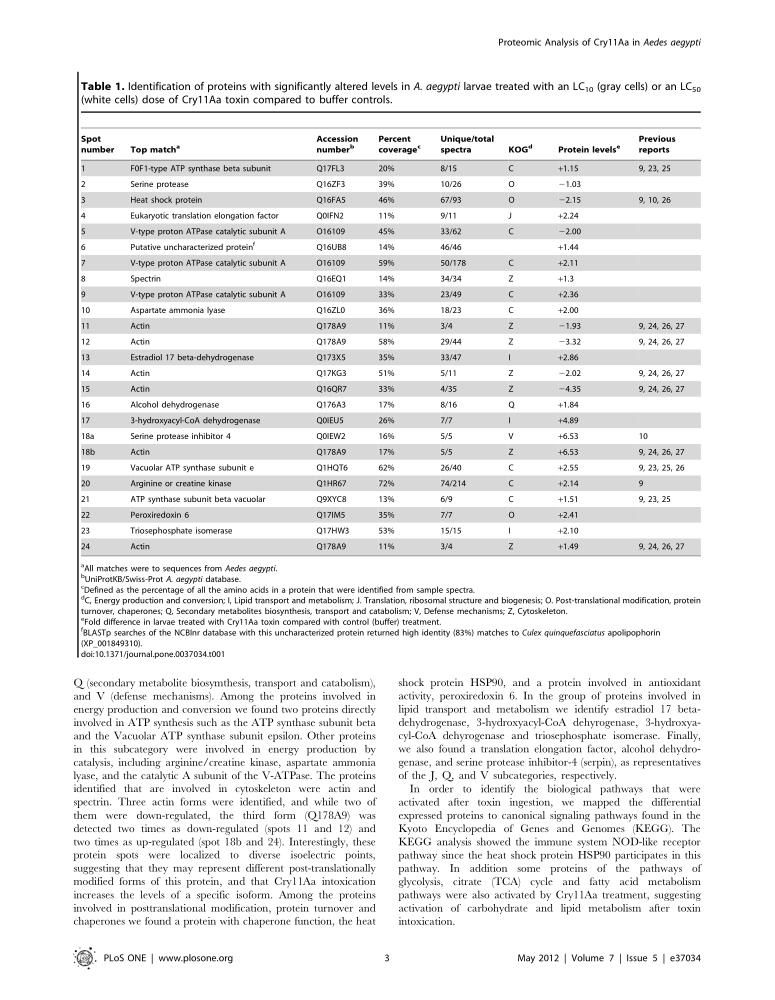table: (80, 135, 684, 551)
